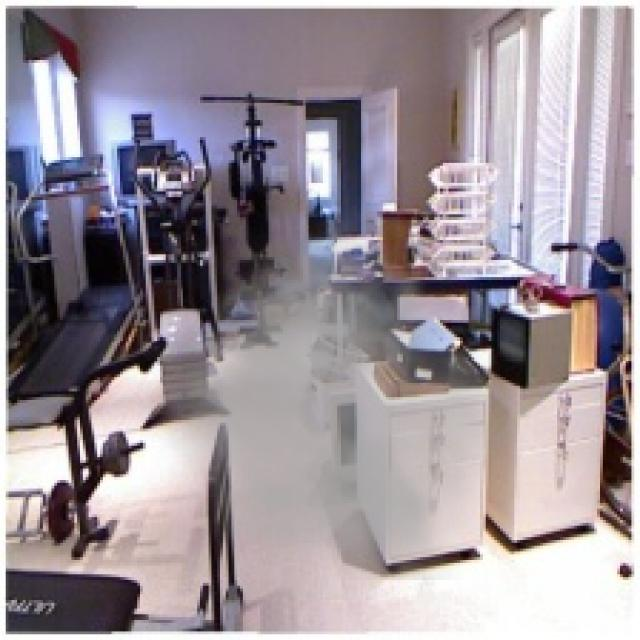smoke: (137, 191, 526, 580)
